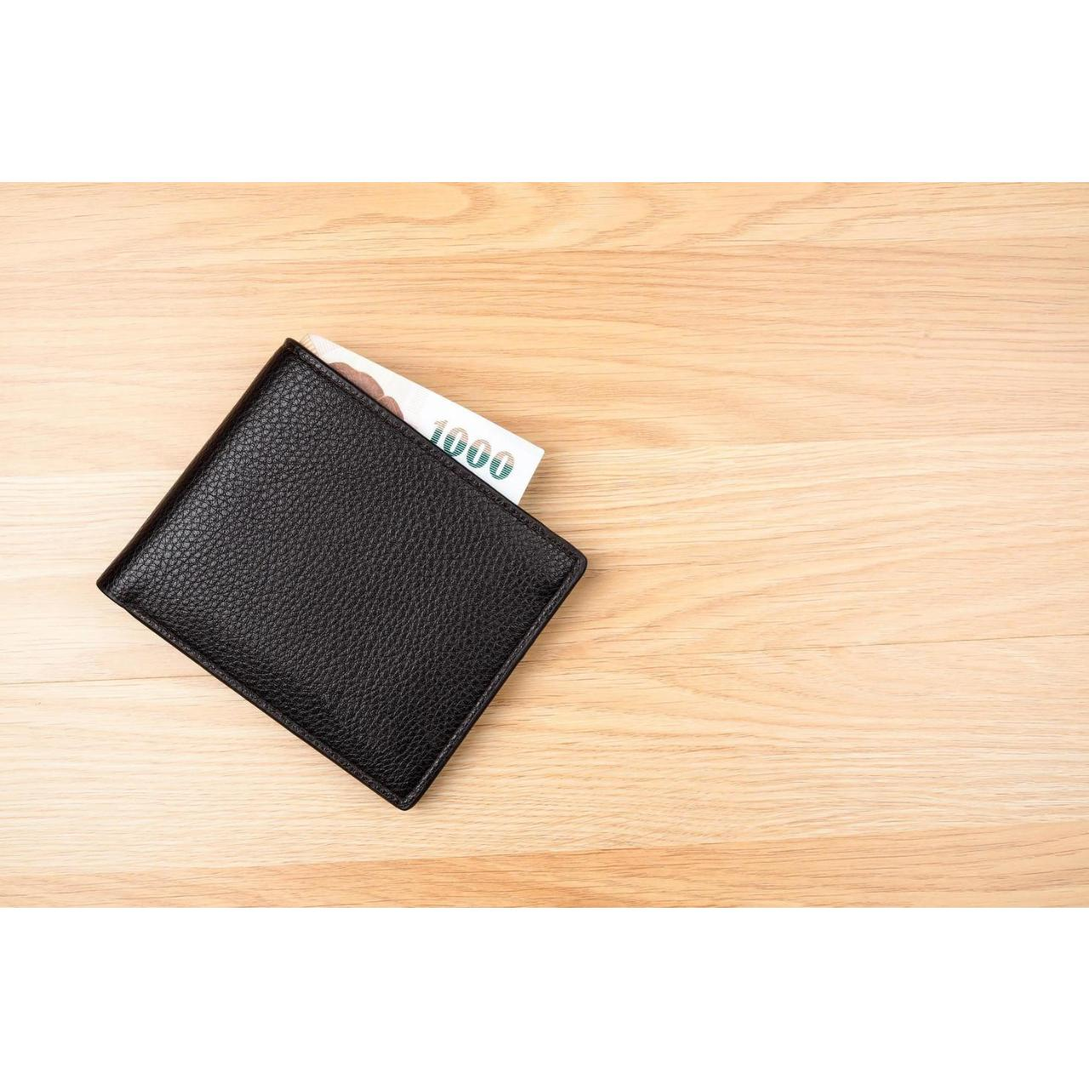wallet: (90, 306, 628, 803)
